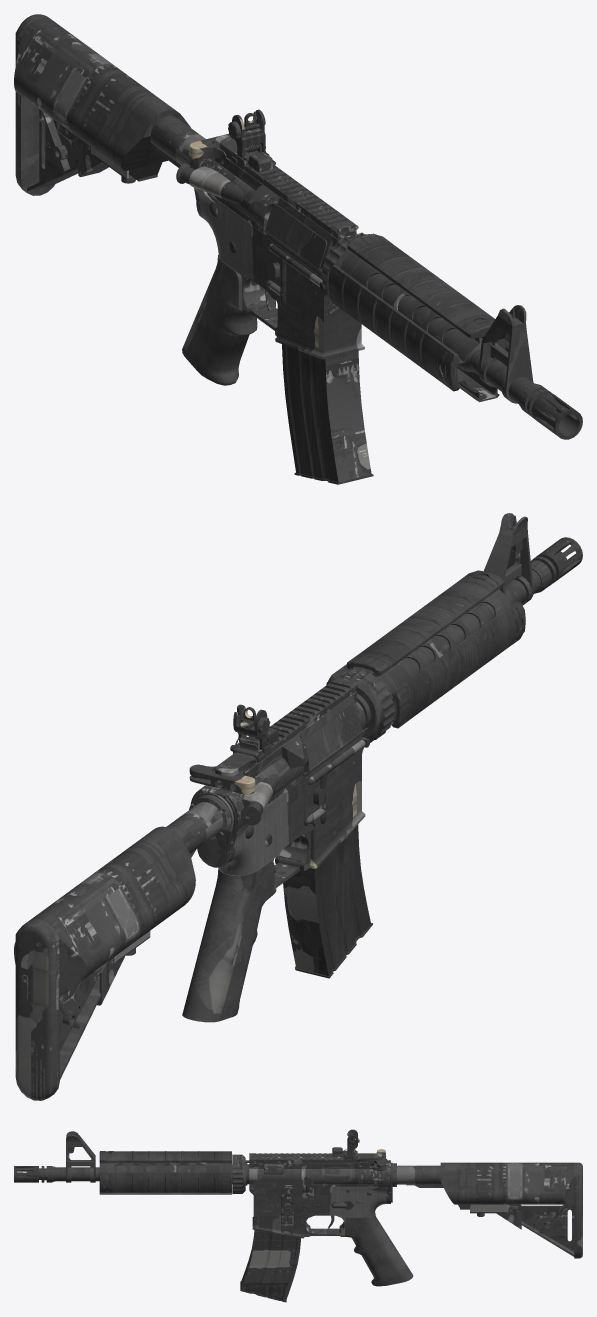
The picture shows the model from 3 angles, top to bottom: view 1: azimuth 30°, elevation 25°; view 2: azimuth 150°, elevation 25°; view 3: azimuth 270°, elevation 25°; orthographic projection. The views are drawn at different scales.
Parts seen in each view (by area): view 1: weapon_rif_m4a4.vmdl_c.body_legacy; view 2: weapon_rif_m4a4.vmdl_c.body_legacy; view 3: weapon_rif_m4a4.vmdl_c.body_legacy.
Part boxes in pixels (x1=…): weapon_rif_m4a4.vmdl_c.body_legacy: x1=14, y1=14, x2=582, y2=484; weapon_rif_m4a4.vmdl_c.body_legacy: x1=14, y1=513, x2=582, y2=1100; weapon_rif_m4a4.vmdl_c.body_legacy: x1=14, y1=1129, x2=582, y2=1302.
Size of the model in its own units: 0.0778 by 0.2877 by 0.8972.
Materials: 1 (1 with a texture image).
